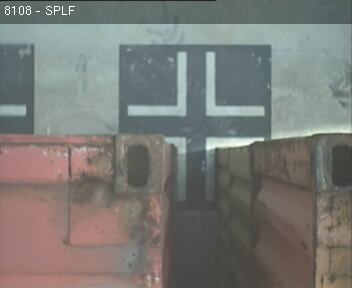groundmarker_1: (126, 51, 265, 115), (160, 137, 265, 201)
